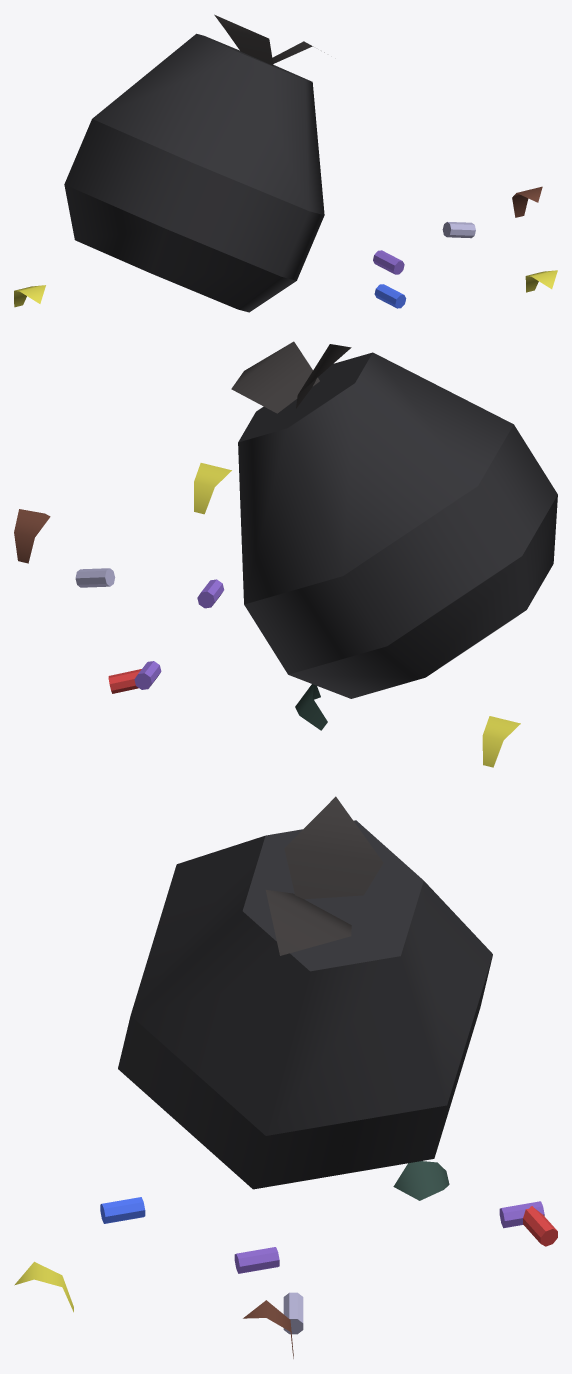
Rendered from trashiertrashbag.fbx.
3 renders of one model, top to bottom at view 1: azimuth 30°, elevation 25°; view 2: azimuth 150°, elevation 25°; view 3: azimuth 270°, elevation 25°, orthographic. The views are drawn at different scales.
Parts seen in each view (by area): view 1: leafs_cone, trunk (×3), plant_largeLeaf (×3), plant_smallLeaf; view 2: leafs_cone, plant_largeLeaf (×5), trunk (×2), plant_smallLeaf; view 3: leafs_cone, plant_smallLeaf, plant_largeLeaf (×3), trunk (×4).
Part boxes in pixels (x1=…): leafs_cone: x1=64, y1=33, x2=324, y2=312; trunk (×3): x1=373, y1=221, x2=475, y2=308; plant_largeLeaf (×3): x1=14, y1=186, x2=557, y2=307; plant_smallLeaf: x1=214, y1=14, x2=273, y2=65; leafs_cone: x1=238, y1=352, x2=557, y2=698; plant_largeLeaf (×5): x1=14, y1=341, x2=520, y2=767; trunk (×2): x1=75, y1=568, x2=141, y2=693; plant_smallLeaf: x1=296, y1=344, x2=351, y2=408; leafs_cone: x1=118, y1=820, x2=492, y2=1189; plant_smallLeaf: x1=284, y1=796, x2=383, y2=899; plant_largeLeaf (×3): x1=14, y1=890, x2=449, y2=1312; trunk (×4): x1=100, y1=1197, x2=557, y2=1334.
Size of the model in its own units: 13.77 by 8.02 by 9.91.
